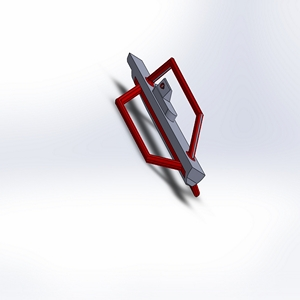submarine: (109, 51, 214, 213)
